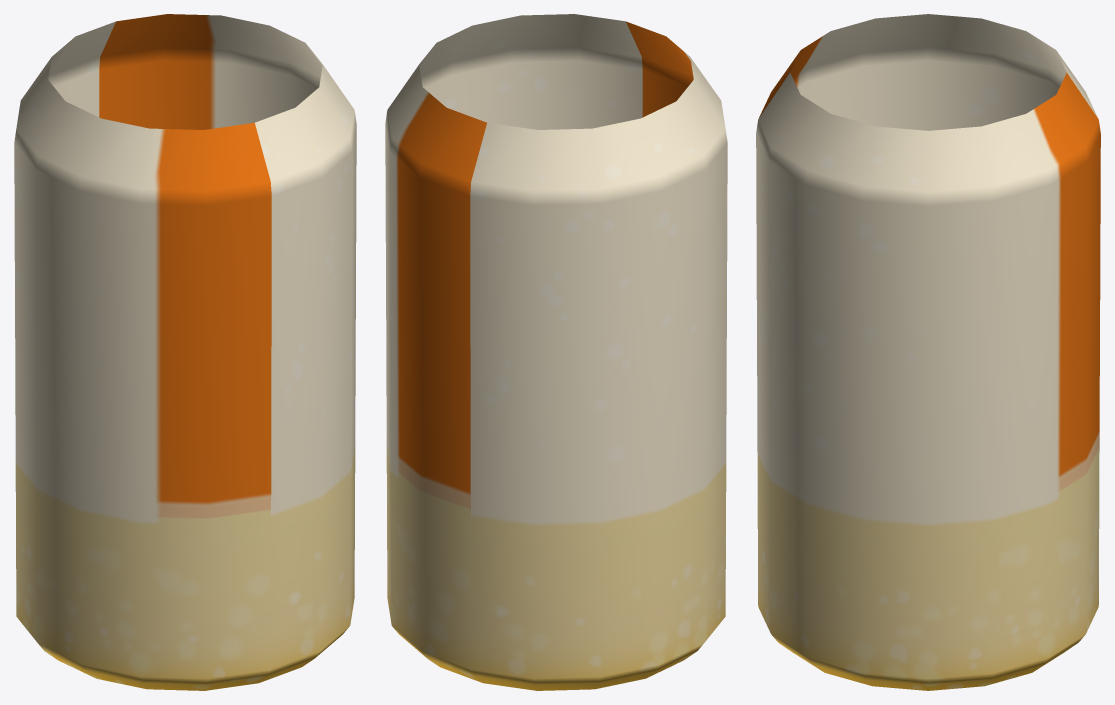
File: KingCan_Label_01.fbx
3 renders of one model, left to right at view 1: azimuth 30°, elevation 25°; view 2: azimuth 150°, elevation 25°; view 3: azimuth 270°, elevation 25°, orthographic.
Visible parts, largest first — view 1: KingCan_Label_01; view 2: KingCan_Label_01; view 3: KingCan_Label_01.
Part boxes in pixels (bbox=[...]): KingCan_Label_01: bbox=[14, 14, 356, 690]; KingCan_Label_01: bbox=[385, 14, 727, 690]; KingCan_Label_01: bbox=[756, 14, 1100, 690].
Bounding box in the file's own units: 43.38 × 77.26 × 43.38.
